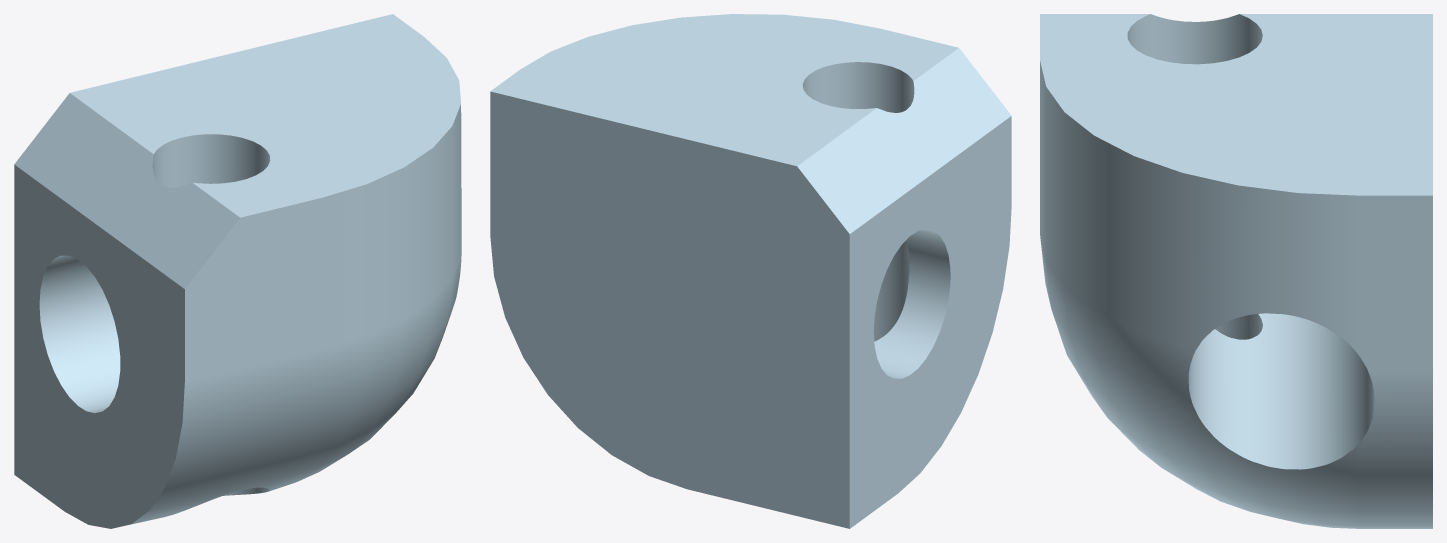
The model's file is Weirdo03.gltf.
The picture shows the model from 3 angles, left to right: view 1: azimuth 30°, elevation 25°; view 2: azimuth 150°, elevation 25°; view 3: azimuth 270°, elevation 25°; orthographic projection. The views are drawn at different scales.
Visible parts, largest first — view 1: mesh5_meshnode_5, mesh0_meshnode_0, mesh8_meshnode_8, mesh3_meshnode_3, mesh12_meshnode_12, mesh9_meshnode_9, mesh10_meshnode_10, mesh7_meshnode_7, mesh6_meshnode_6; view 2: mesh1_meshnode_1, mesh5_meshnode_5, mesh0_meshnode_0, mesh12_meshnode_12, mesh6_meshnode_6, mesh7_meshnode_7; view 3: mesh5_meshnode_5, mesh8_meshnode_8, mesh10_meshnode_10, mesh7_meshnode_7, mesh2_meshnode_2, mesh11_meshnode_11, mesh6_meshnode_6.
Boxes of the visible parts, box(x1,y1,x2,y2) form: mesh5_meshnode_5: box(70, 14, 460, 217); mesh0_meshnode_0: box(14, 164, 184, 528); mesh8_meshnode_8: box(322, 104, 461, 348); mesh3_meshnode_3: box(185, 197, 322, 382); mesh12_meshnode_12: box(14, 93, 239, 288); mesh9_meshnode_9: box(120, 349, 322, 526); mesh10_meshnode_10: box(269, 251, 461, 491); mesh7_meshnode_7: box(39, 255, 120, 412); mesh6_meshnode_6: box(152, 134, 270, 495); mesh1_meshnode_1: box(490, 91, 849, 528); mesh5_meshnode_5: box(490, 14, 958, 166); mesh0_meshnode_0: box(849, 116, 1011, 528); mesh12_meshnode_12: box(797, 48, 1011, 233); mesh6_meshnode_6: box(802, 62, 914, 341); mesh7_meshnode_7: box(874, 229, 950, 378); mesh5_meshnode_5: box(1040, 14, 1432, 195); mesh8_meshnode_8: box(1040, 61, 1360, 356); mesh10_meshnode_10: box(1040, 235, 1360, 528); mesh7_meshnode_7: box(1188, 313, 1374, 469); mesh2_meshnode_2: box(1360, 195, 1432, 369); mesh11_meshnode_11: box(1360, 370, 1432, 528); mesh6_meshnode_6: box(1127, 14, 1262, 339).
Bounding box in the file's own units: 0.0347 × 0.0323 × 0.0271.
